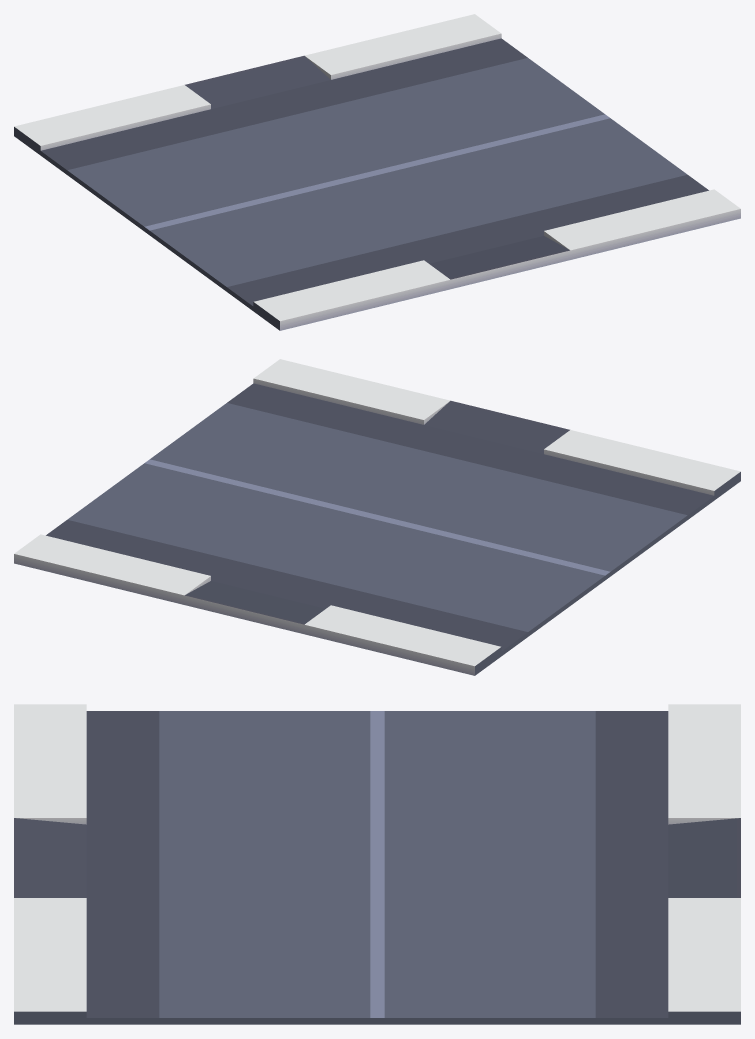
Rendered from kenney-city-roads-road-driveway-double.glb.
The picture shows the model from 3 angles, top to bottom: view 1: azimuth 30°, elevation 25°; view 2: azimuth 150°, elevation 25°; view 3: azimuth 270°, elevation 25°; orthographic projection. The views are drawn at different scales.
Parts seen in each view (by area): view 1: road-driveway-double; view 2: road-driveway-double; view 3: road-driveway-double.
Boxes of the visible parts, bbox=[...] form: road-driveway-double: bbox=[14, 14, 740, 330]; road-driveway-double: bbox=[14, 359, 740, 675]; road-driveway-double: bbox=[14, 704, 740, 1024].
Size of the model in its own units: 1 by 0.02 by 1.
Materials: 1 (1 with a texture image).
